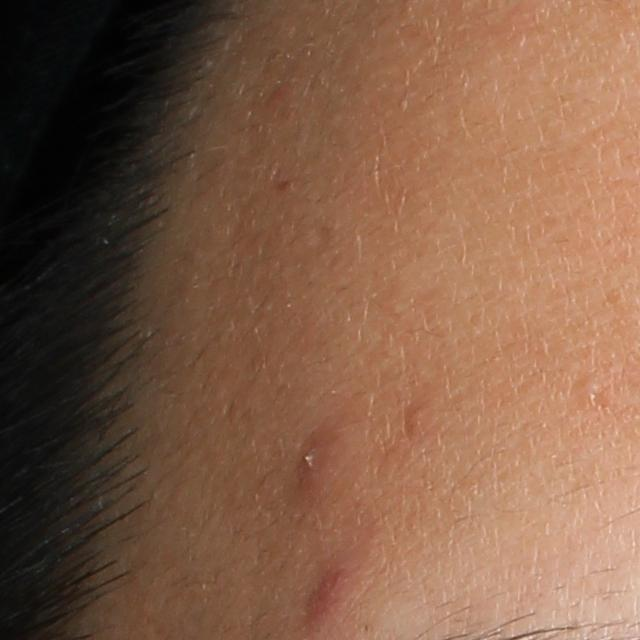papule: (302, 560, 361, 615)
